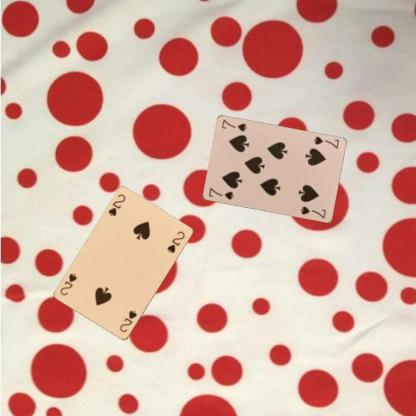2s: (117, 308, 138, 334), (106, 192, 127, 218)
7s: (206, 185, 235, 201), (311, 134, 340, 150)
